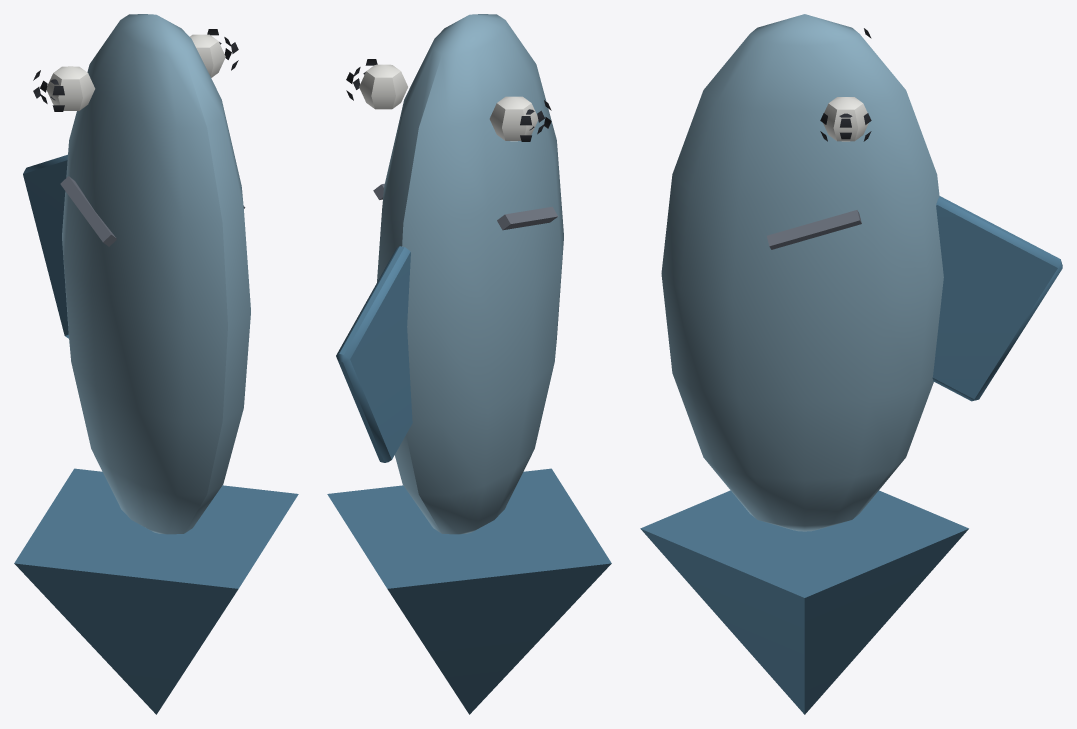
File: item_fish.glb
3 renders of one model, left to right at view 1: azimuth 30°, elevation 25°; view 2: azimuth 150°, elevation 25°; view 3: azimuth 270°, elevation 25°, orthographic.
Parts seen in each view (by area): view 1: item_fish, item_fish_detail; view 2: item_fish, item_fish_detail; view 3: item_fish, item_fish_detail.
Part boxes in pixels (box(x1,y1,x2,y2)): item_fish: box(14, 14, 298, 714); item_fish_detail: box(60, 176, 245, 246); item_fish: box(327, 14, 611, 714); item_fish_detail: box(373, 183, 558, 230); item_fish: box(640, 14, 1062, 714); item_fish_detail: box(767, 210, 861, 249).
Size of the model in its own units: 0.24 by 0.564 by 0.3081.
